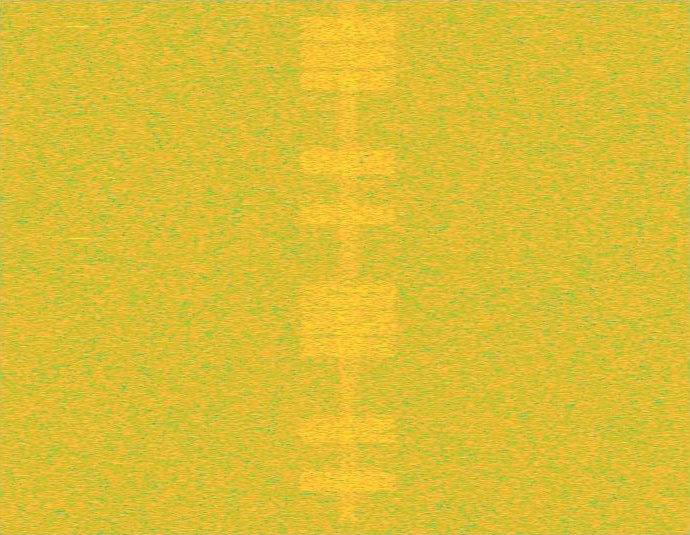DSSS: (337, 0, 360, 534)
LTE: (296, 0, 400, 534)
Radar: (72, 0, 86, 534)
